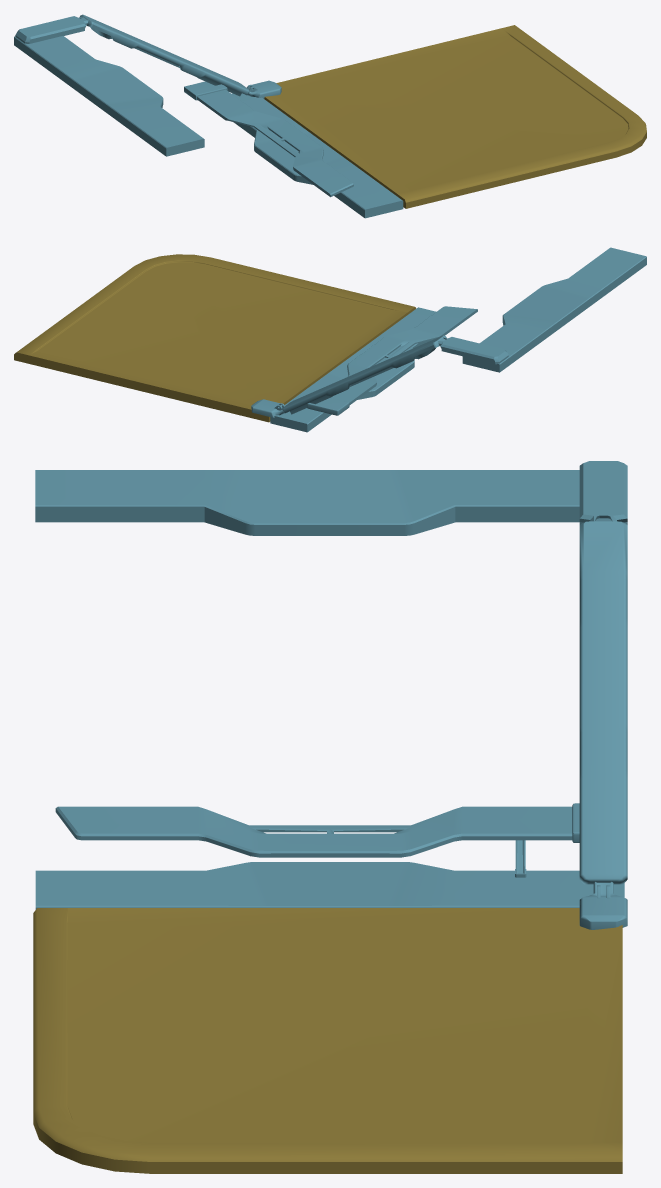
Rendered from StairSculpt.fbx.
3 renders of one model, top to bottom at view 1: azimuth 30°, elevation 25°; view 2: azimuth 150°, elevation 25°; view 3: azimuth 270°, elevation 25°, orthographic. The views are drawn at different scales.
Visible parts, largest first — view 1: CornerPlatform, StairLandingUpper, StairLandingLower, pCube119, StairSideSupportB, StairSupportUpperFootB, pCube121, StairSupportFootA2; view 2: CornerPlatform, StairLandingUpper, pCube119, StairLandingLower, StairSideSupportB, StairSupportUpperFootB, pCube121, StairSupportFootA2; view 3: CornerPlatform, StairLandingUpper, StairLandingLower, StairSideSupportB, pCube119, StairSupportUpperFootB, StairSupportFootA2.
Boxes of the visible parts, box(x1,y1,x2,y2) form: CornerPlatform: box(264, 25, 646, 208); StairLandingUpper: box(14, 36, 204, 156); StairLandingLower: box(232, 93, 403, 218); pCube119: box(197, 89, 353, 197); StairSideSupportB: box(79, 14, 249, 96); StairSupportUpperFootB: box(15, 16, 88, 43); pCube121: box(184, 81, 227, 100); StairSupportFootA2: box(248, 80, 281, 98); CornerPlatform: box(14, 254, 416, 422); StairLandingUpper: box(462, 247, 646, 372); pCube119: box(331, 306, 477, 404); StairLandingLower: box(270, 307, 436, 432); StairSideSupportB: box(282, 335, 446, 414); StairSupportUpperFootB: box(438, 337, 508, 364); pCube121: box(307, 398, 349, 415); StairSupportFootA2: box(251, 399, 283, 417); CornerPlatform: box(33, 908, 622, 1173); StairLandingUpper: box(35, 470, 579, 535); StairLandingLower: box(35, 862, 624, 909); StairSideSupportB: box(579, 521, 627, 884); pCube119: box(55, 806, 572, 857); StairSupportUpperFootB: box(579, 461, 627, 524); StairSupportFootA2: box(579, 882, 627, 929).
Size of the model in its own units: 193 by 45.93 by 102.
